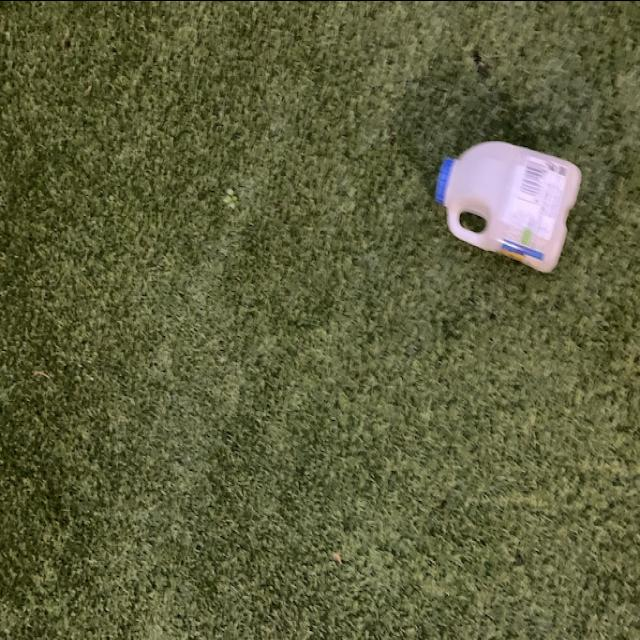litter: (422, 136, 588, 275)
